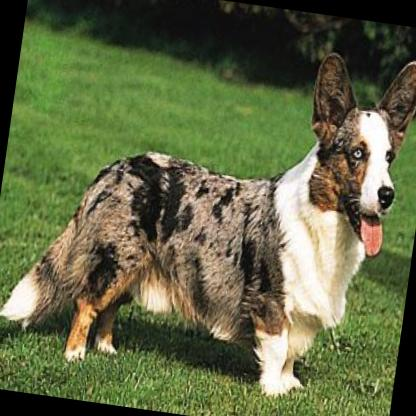Cardigan: (0, 2, 416, 406)
